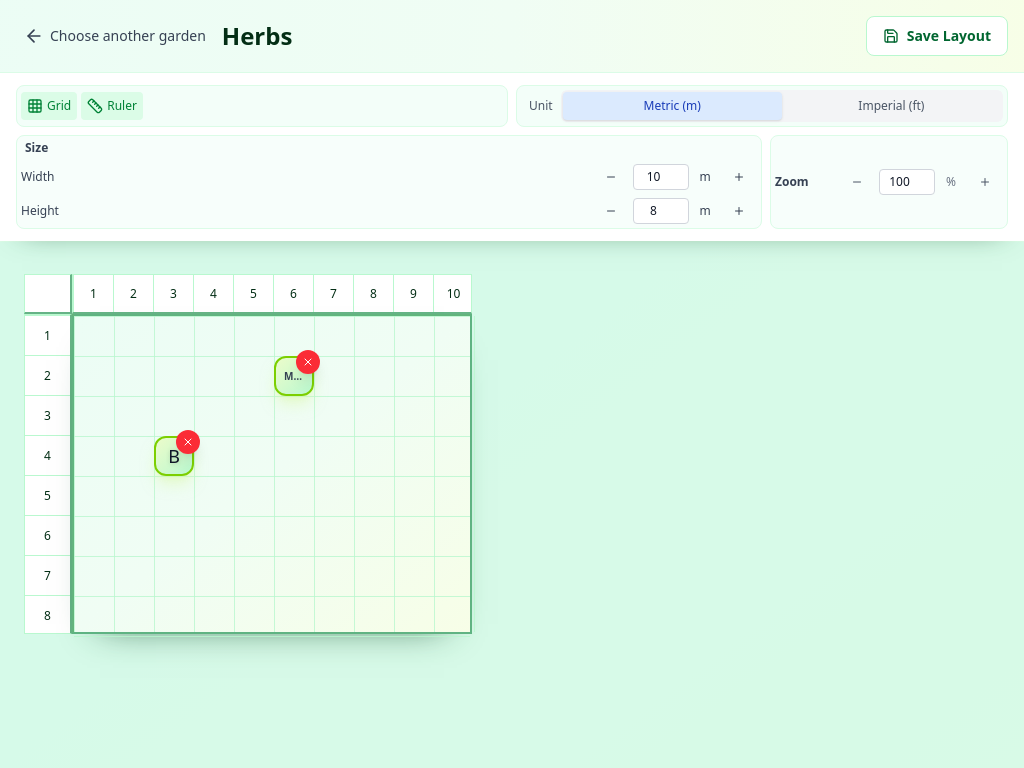
keeps failed edits and failure feedback for an explicit retry
expect the button named "Remove Mint" is shown: met, box [296, 350, 320, 374]
Click the button named "Increase garden width" at (739, 177), box [721, 167, 757, 187]
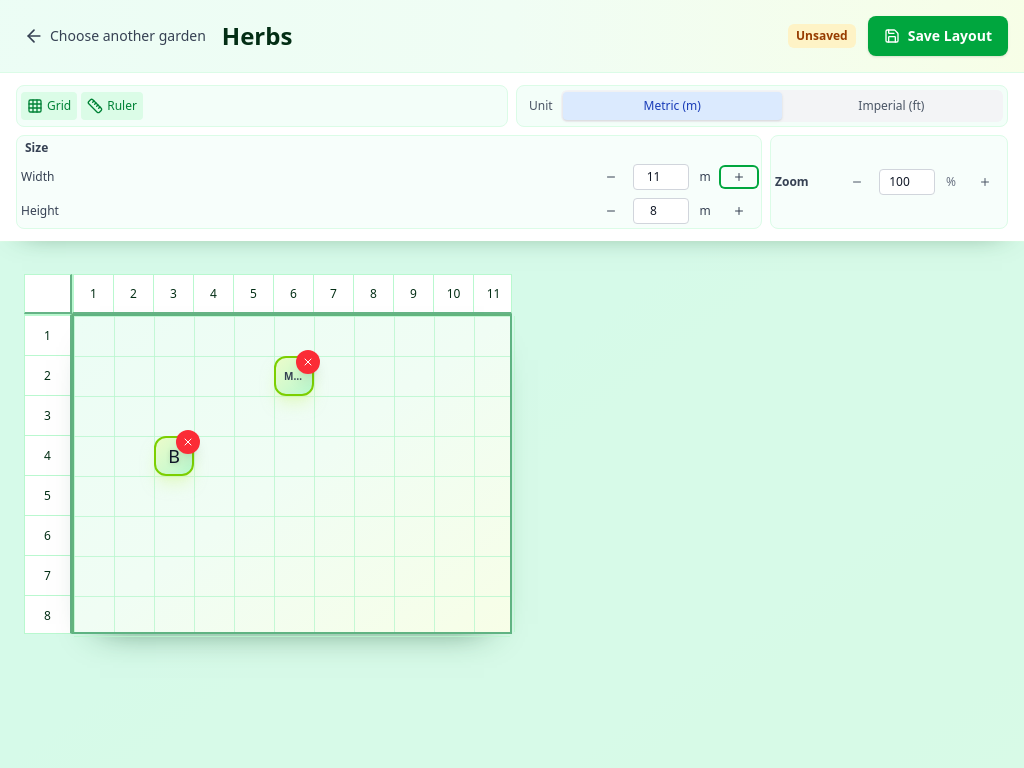
Click the button named "Remove Mint" at (308, 362), box [296, 350, 320, 374]
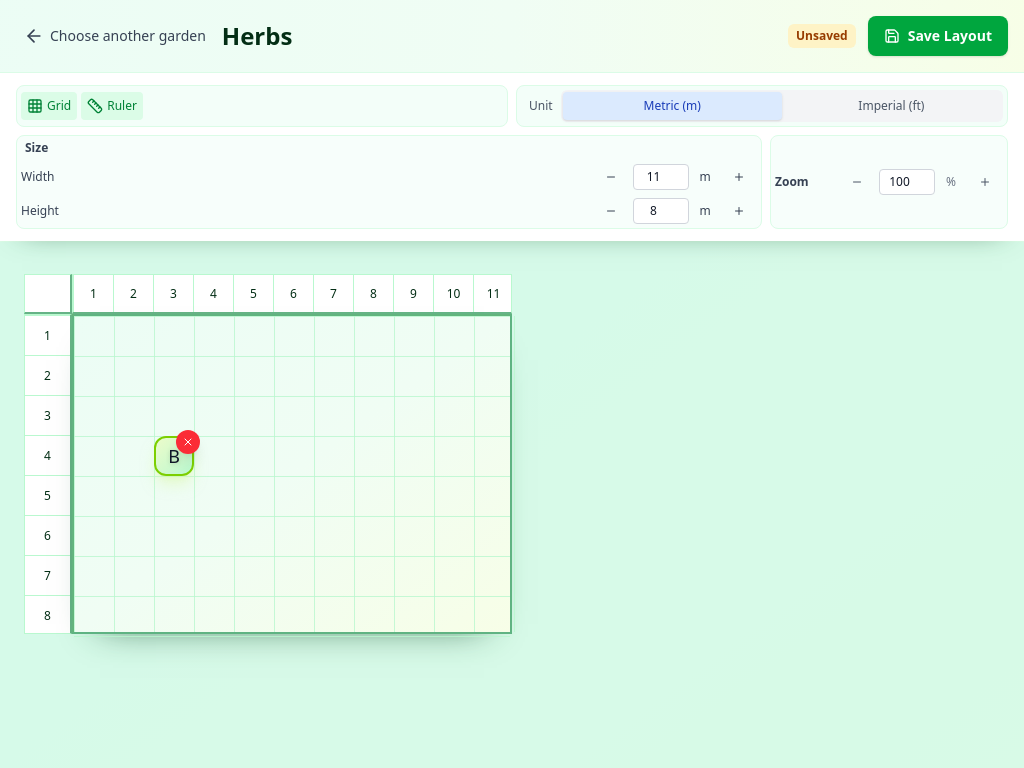
Click the button with aria-label "Save garden" at (938, 36), box [868, 16, 1008, 56]
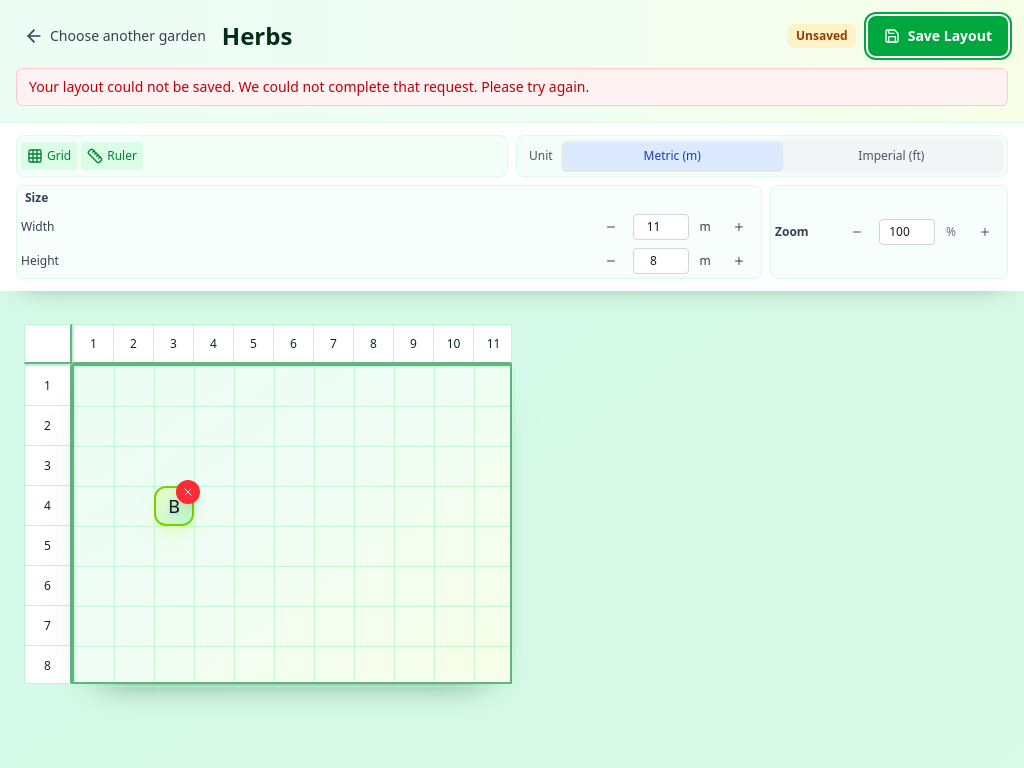
expect the button named "Remove Basil" is shown: met, box [176, 480, 200, 504]
expect the text "Unsaved" is shown: met, box [788, 24, 856, 48]
expect the number field named "Garden width" holds "11": met, box [633, 214, 689, 240]
Click the button with aria-label "Save garden" at (938, 36), box [868, 16, 1008, 56]
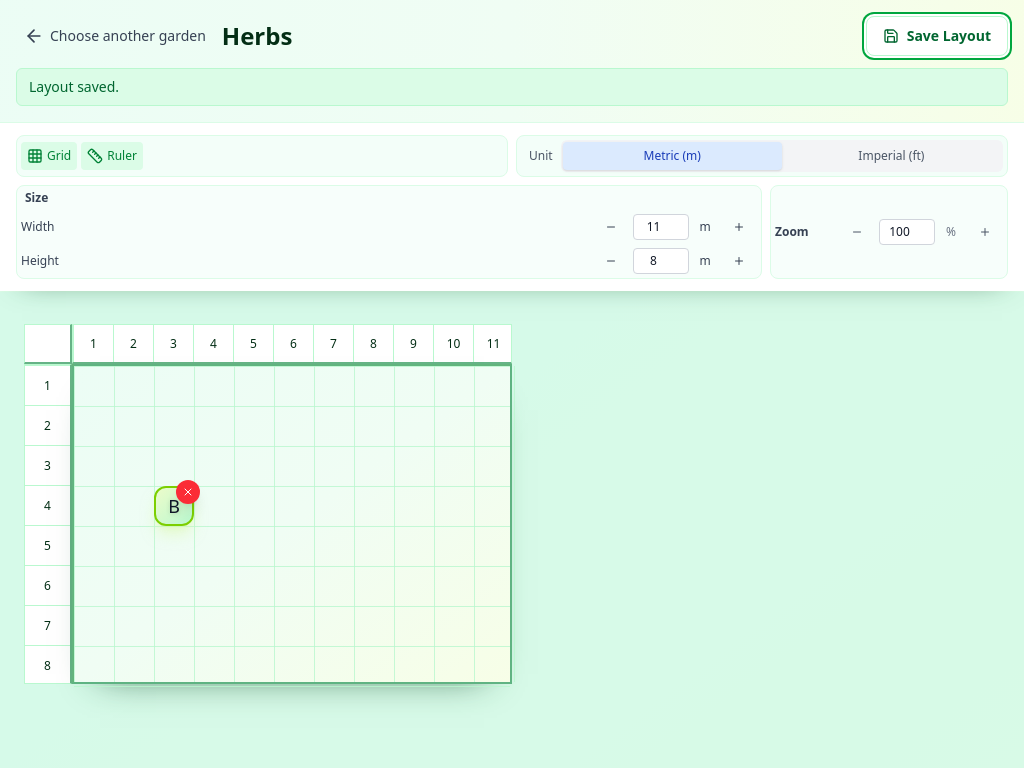
expect the text "Layout saved." is shown: met, box [16, 68, 1008, 106]
